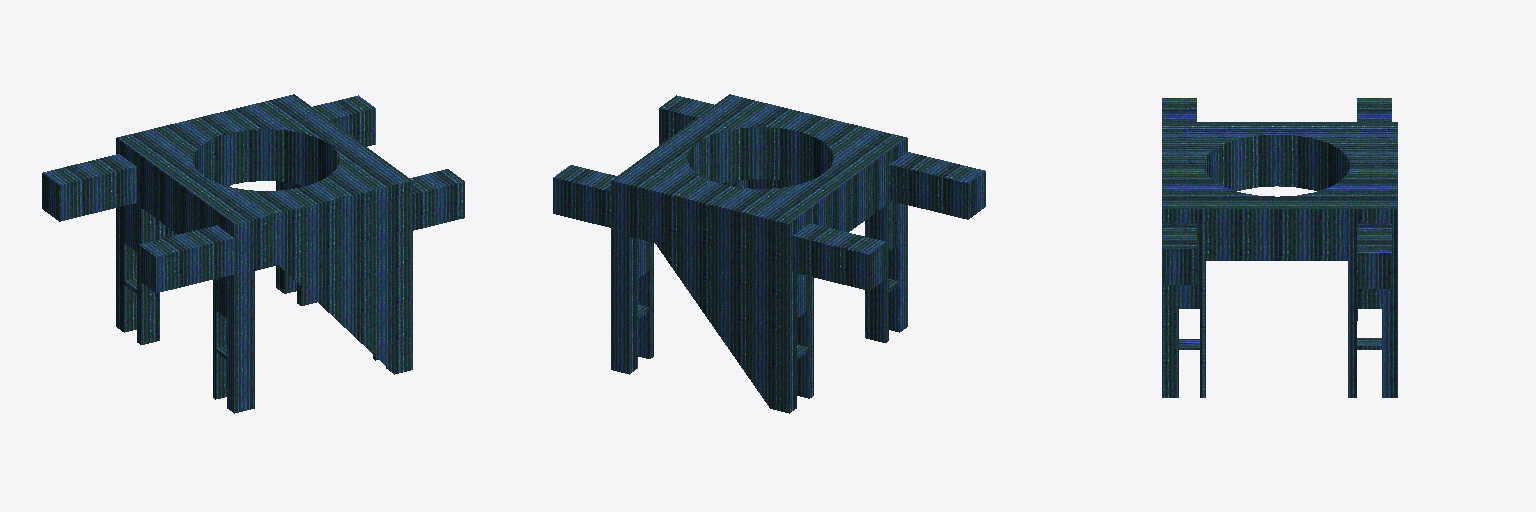
3 views of the same model, side by side, from view 1: azimuth 30°, elevation 25°; view 2: azimuth 150°, elevation 25°; view 3: azimuth 270°, elevation 25° (orthographic).
Parts seen in each view (by area): view 1: Mesh1 Group1 Model; view 2: Mesh1 Group1 Model; view 3: Mesh1 Group1 Model.
Boxes of the visible parts, x1=… form: Mesh1 Group1 Model: x1=42, y1=94, x2=464, y2=413; Mesh1 Group1 Model: x1=553, y1=94, x2=985, y2=413; Mesh1 Group1 Model: x1=1162, y1=98, x2=1397, y2=397.
Size of the model in its own units: 72.84 by 41.56 by 46.9.
1 materials, 1 textured.